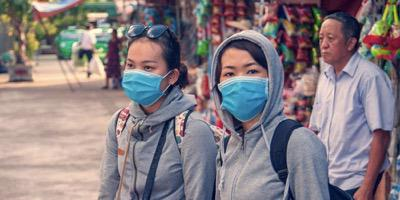with_mask: (217, 61, 268, 124), (121, 57, 168, 108)
without_mask: (320, 31, 345, 62)
